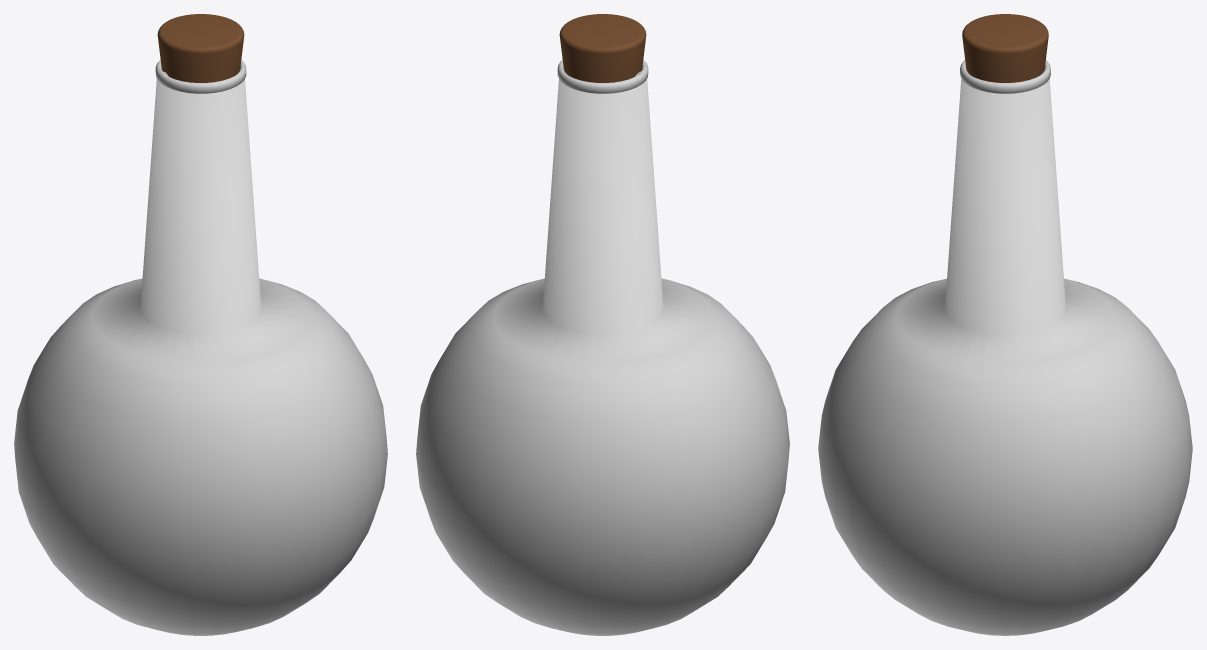
File: Potion_2.fbx
3 views of the same model, side by side, from view 1: azimuth 30°, elevation 25°; view 2: azimuth 150°, elevation 25°; view 3: azimuth 270°, elevation 25° (orthographic).
Parts seen in each view (by area): view 1: Potion_2; view 2: Potion_2; view 3: Potion_2.
Boxes of the visible parts, x1,y1,x2,y2 form: Potion_2: [14, 14, 387, 635]; Potion_2: [416, 14, 789, 635]; Potion_2: [818, 14, 1192, 635].
Bounding box in the file's own units: 55.73 × 96.46 × 55.73.
